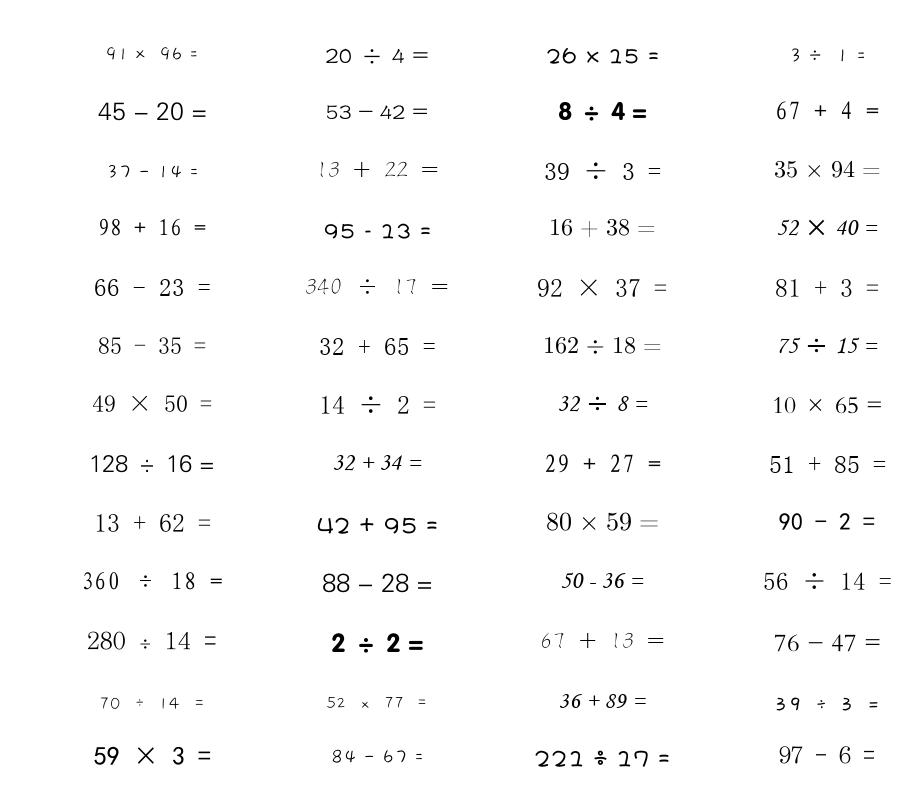MQ: (81, 572, 223, 590), (87, 631, 217, 650), (305, 278, 449, 295), (89, 454, 215, 473), (537, 279, 667, 297), (763, 572, 892, 590), (534, 750, 670, 767), (319, 395, 436, 414), (544, 454, 661, 473), (94, 513, 211, 532), (94, 746, 211, 765), (322, 573, 433, 593), (546, 512, 659, 531), (543, 336, 662, 354), (540, 632, 665, 649), (544, 162, 661, 180), (316, 161, 439, 178), (98, 102, 207, 121), (317, 517, 438, 534), (92, 395, 212, 412), (549, 218, 656, 237), (94, 279, 211, 296), (319, 338, 436, 355), (769, 456, 886, 473), (775, 101, 879, 120), (775, 278, 879, 297), (98, 218, 206, 236), (774, 160, 881, 178), (774, 634, 881, 652), (546, 47, 659, 64), (772, 397, 883, 414), (331, 633, 424, 653), (98, 337, 206, 354), (558, 101, 647, 121), (776, 219, 878, 236), (776, 337, 878, 354), (779, 513, 875, 531), (779, 746, 875, 764), (324, 223, 431, 239), (325, 48, 429, 64), (326, 105, 428, 120), (774, 697, 880, 711), (557, 396, 648, 412), (332, 455, 422, 471), (106, 164, 199, 179), (331, 749, 424, 764), (99, 697, 206, 710), (560, 572, 644, 588), (326, 696, 428, 709), (105, 47, 199, 61), (558, 694, 646, 708), (789, 48, 866, 63)
